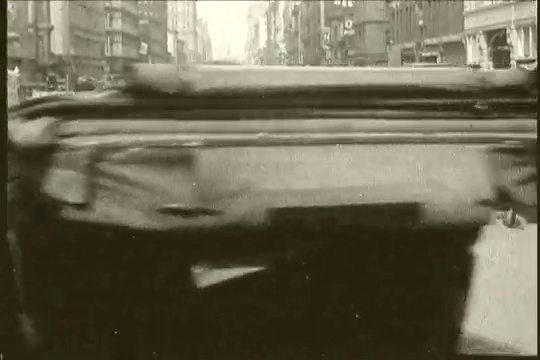car: (7, 59, 537, 350)
